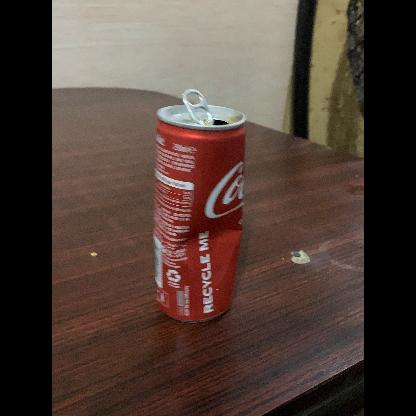Dent_Can: (178, 219, 240, 280), (162, 232, 195, 289)
Lid_Open: (177, 85, 231, 133)
Tin_Can: (144, 83, 248, 331)
